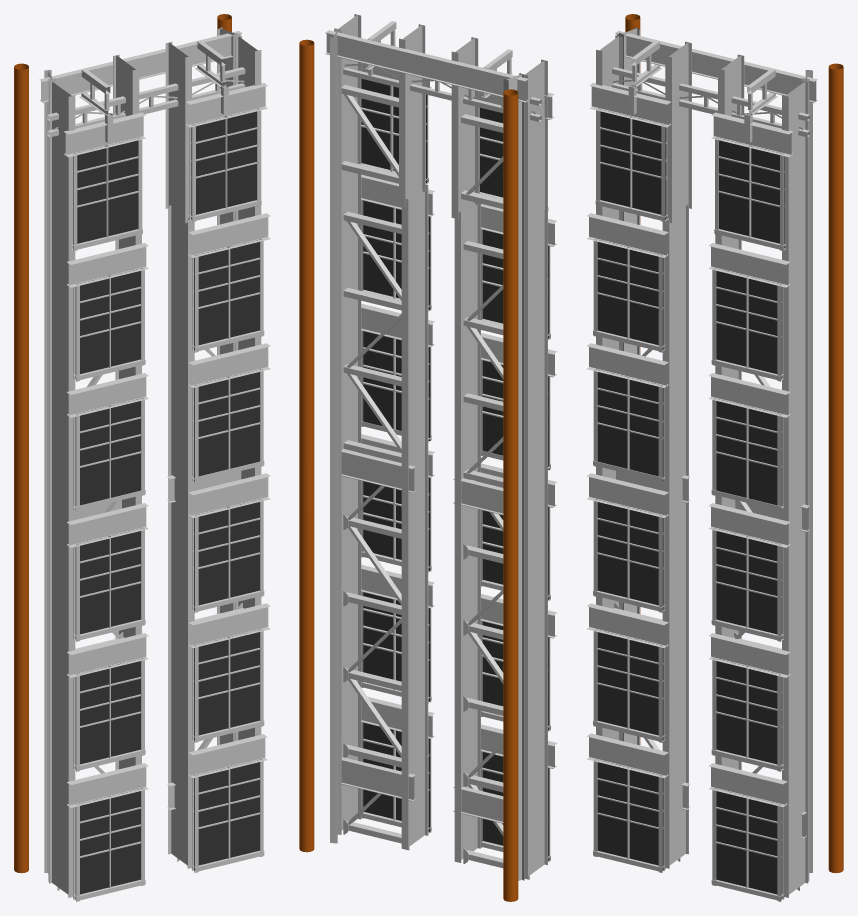
File: SM_H_Building_Tide_MainShaft_08_ATLAS.fbx
The picture shows the model from 3 angles, left to right: view 1: azimuth 30°, elevation 25°; view 2: azimuth 150°, elevation 25°; view 3: azimuth 330°, elevation 25°; orthographic projection.
Parts seen in each view (by area): view 1: SM_H_Building_Tide_MainShaft_08_ATLAS; view 2: SM_H_Building_Tide_MainShaft_08_ATLAS; view 3: SM_H_Building_Tide_MainShaft_08_ATLAS.
Part boxes in pixels (x1,y1,x2,y2): SM_H_Building_Tide_MainShaft_08_ATLAS: (14, 14, 270, 901); SM_H_Building_Tide_MainShaft_08_ATLAS: (299, 14, 557, 901); SM_H_Building_Tide_MainShaft_08_ATLAS: (586, 14, 843, 901).
Bounding box in the file's own units: 1332 × 554 × 4794.
